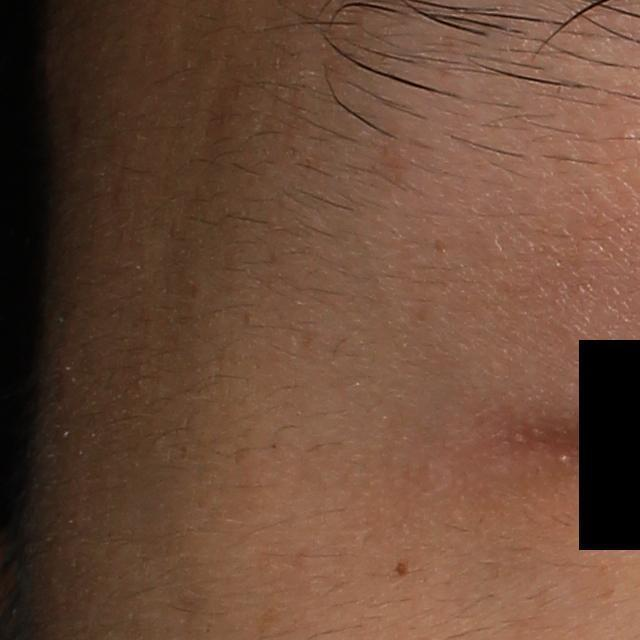nevus: (392, 558, 408, 578)
